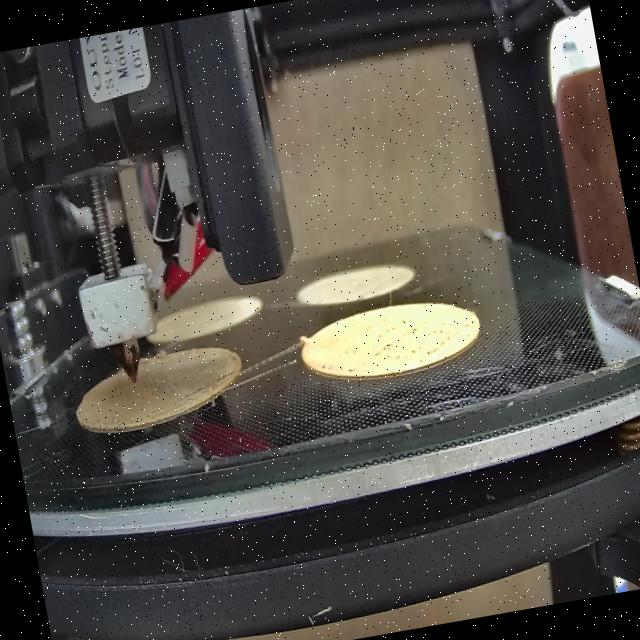under_extrusion: (368, 302, 481, 370), (74, 393, 144, 438), (173, 364, 247, 406), (316, 340, 361, 382)
